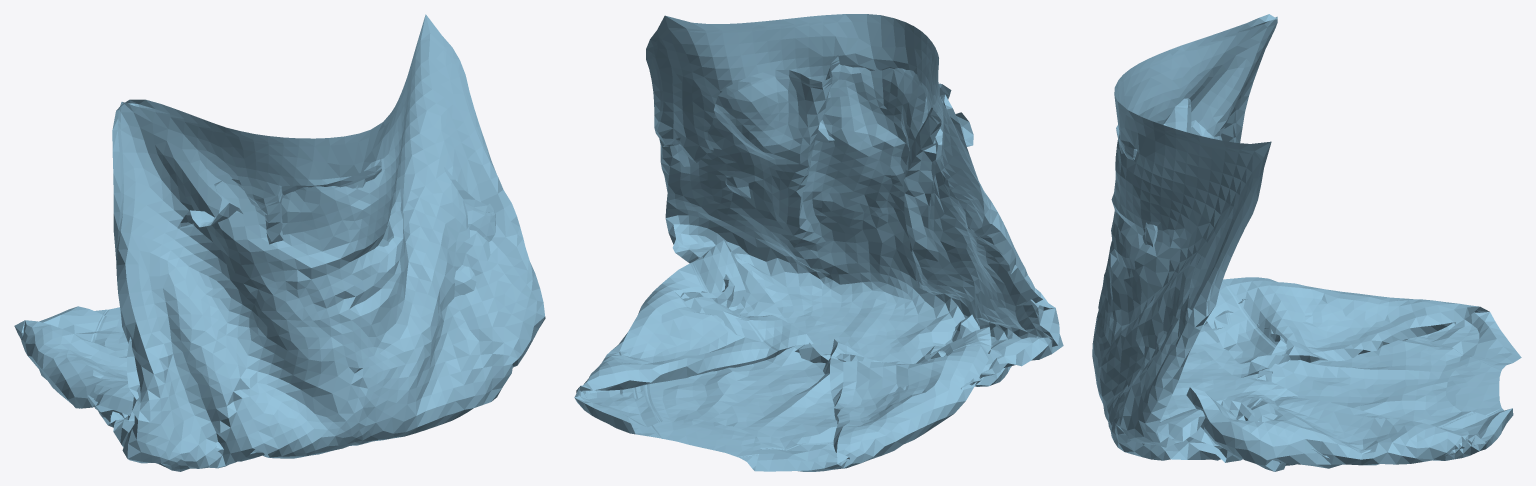
File: frame_13.glb
The picture shows the model from 3 angles, left to right: view 1: azimuth 30°, elevation 25°; view 2: azimuth 150°, elevation 25°; view 3: azimuth 270°, elevation 25°; orthographic projection. The views are drawn at different scales.
Parts seen in each view (by area): view 1: frame_13.obj; view 2: frame_13.obj; view 3: frame_13.obj.
Part boxes in pixels (bbox=[...]): frame_13.obj: bbox=[14, 14, 545, 471]; frame_13.obj: bbox=[574, 14, 1063, 471]; frame_13.obj: bbox=[1092, 14, 1521, 471].
Size of the model in its own units: 1.16 by 0.909 by 1.07.
